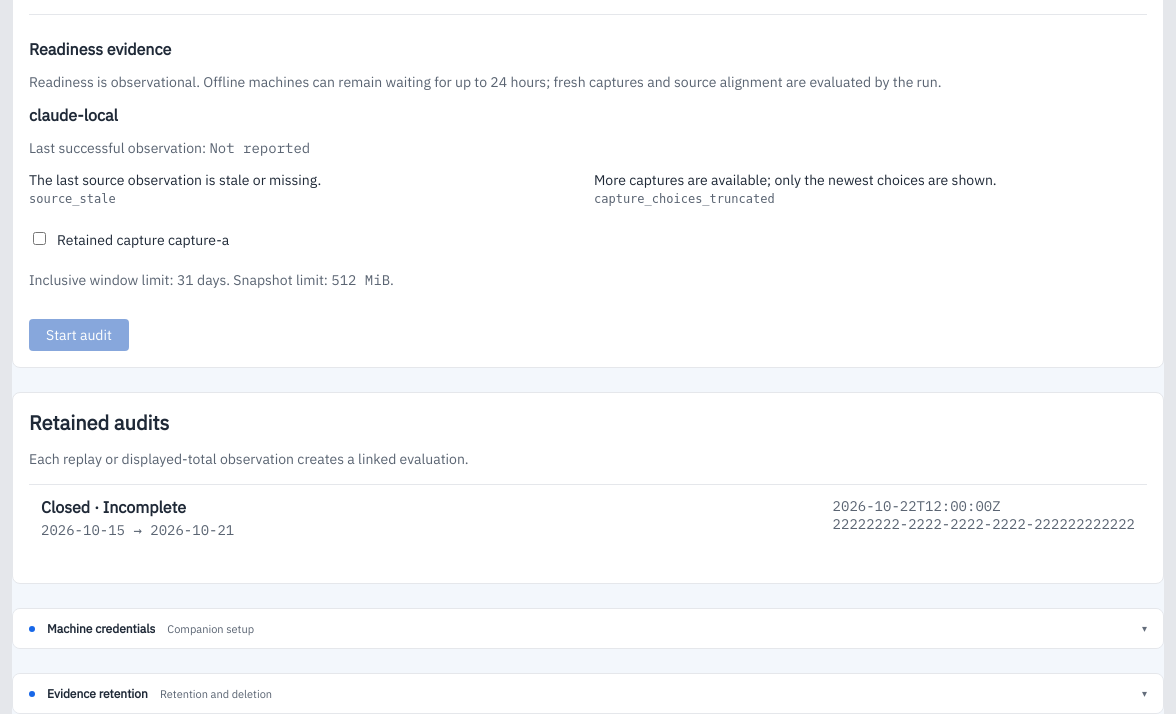
Scenario: expired replay is unavailable and report/export errors remain visible
The image size is (1176, 714).
(page scrolled)
What coordinates should you click on to do the following:
click the button with aria-label "Open audit"
I would click on:
 (114, 507)
Its box is [29,484,1147,551].
(page scrolled)
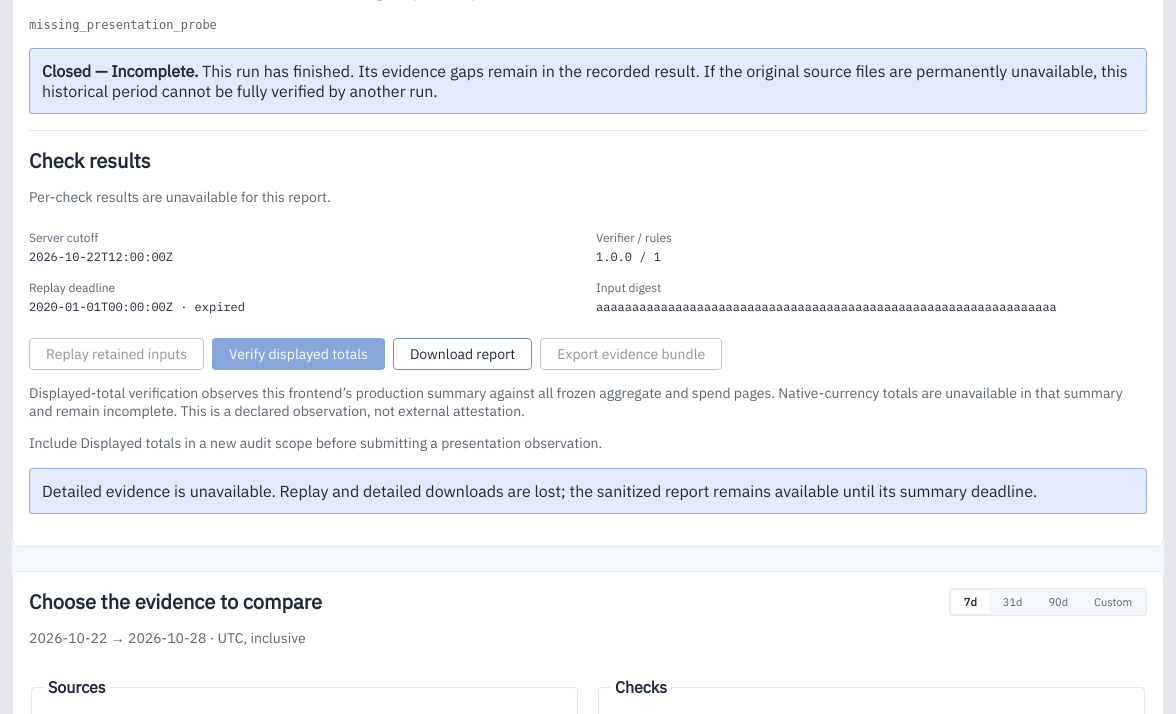
Now the button "Replay retained inputs" is disabled, box [29,338,204,370]
What coordinates should you click on to do the following:
click the button "Download report"
I would click on:
 (463, 354)
Its box is [393,338,532,370].
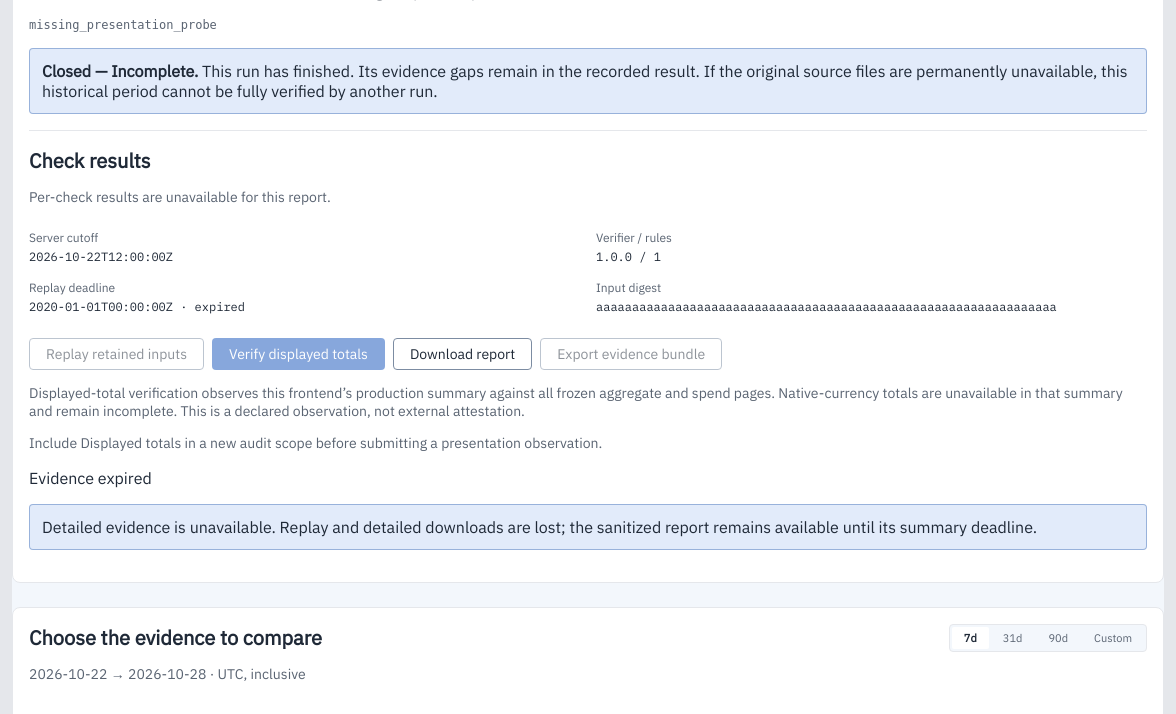
Now the button "Export evidence bundle" is disabled, box [540,338,722,370]
Now the message reads "Evidence expired", box [29,468,152,488]
